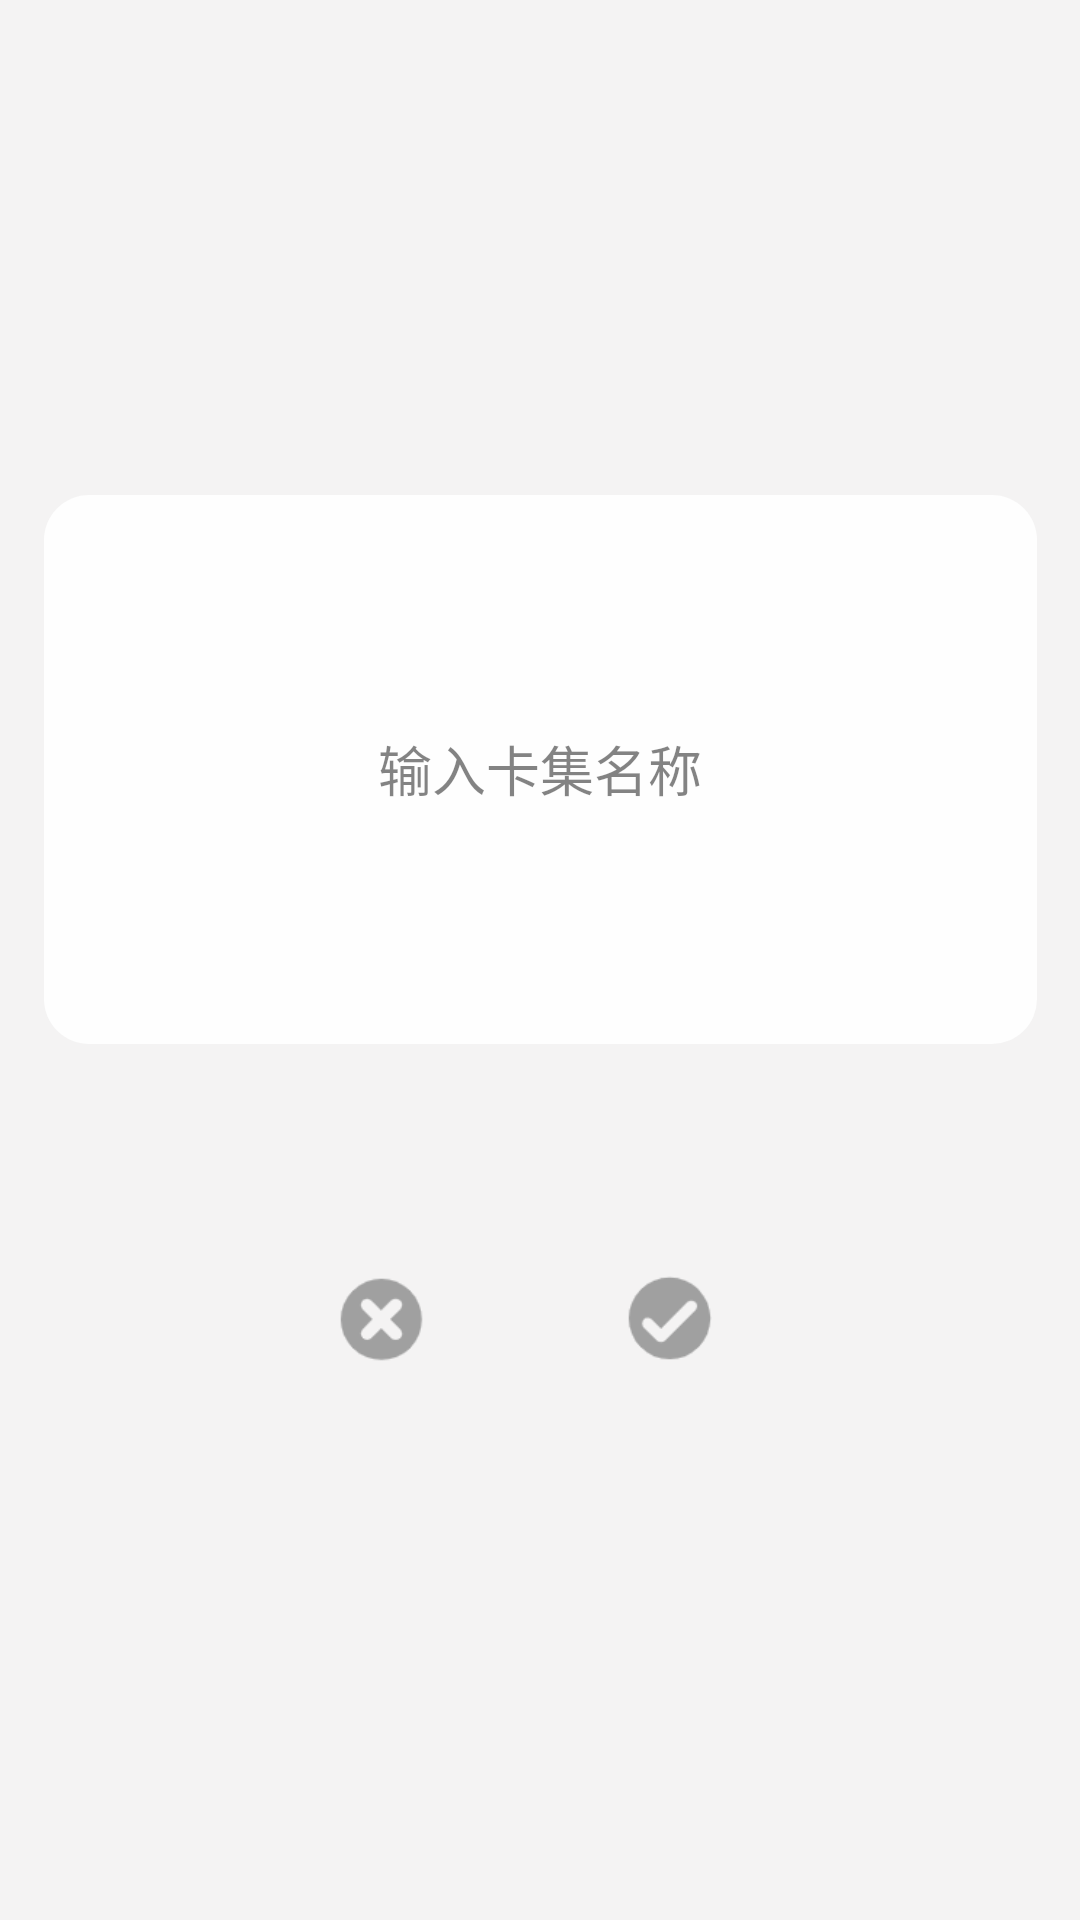

Where icons sit on this 1080w x 1920h app screen, as (x1, y1, x2, y2):
close: (341, 1279, 422, 1360)
finish: (629, 1277, 711, 1359)
